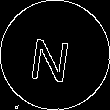N_N: (32, 27, 78, 83)
